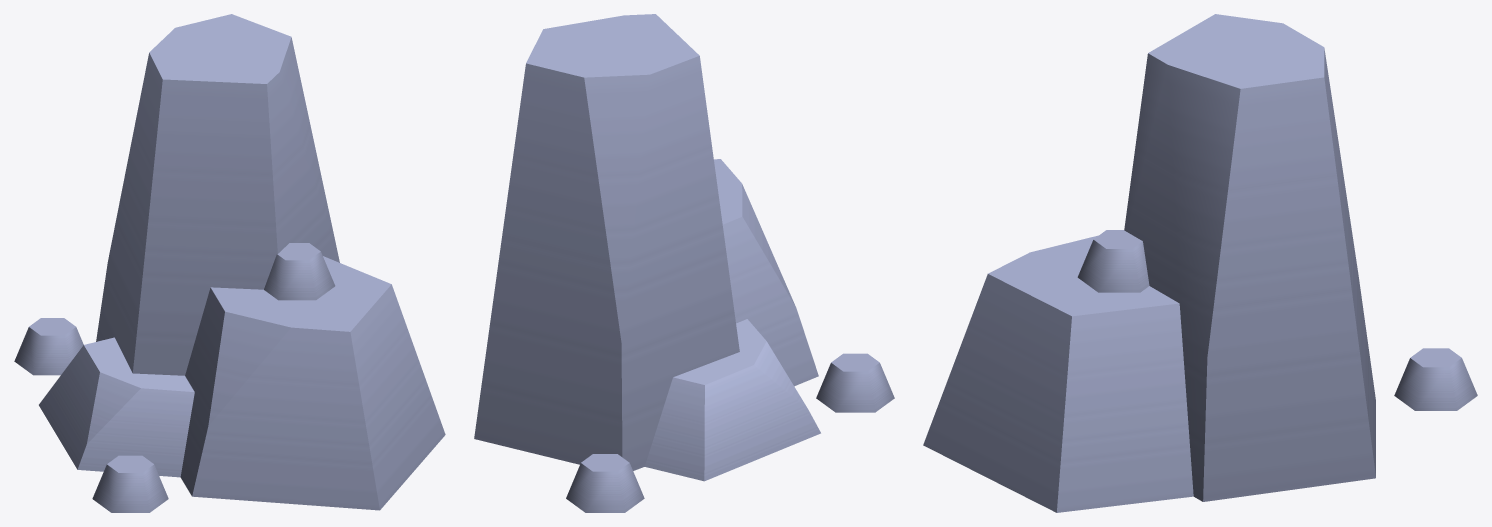
File: rock-small.fbx
The picture shows the model from 3 angles, left to right: view 1: azimuth 30°, elevation 25°; view 2: azimuth 150°, elevation 25°; view 3: azimuth 270°, elevation 25°; orthographic projection. The views are drawn at different scales.
Parts seen in each view (by area): view 1: rock-small; view 2: rock-small; view 3: rock-small.
Part boxes in pixels (x1,y1,x2,y2): rock-small: (14, 14, 445, 512); rock-small: (474, 14, 894, 512); rock-small: (923, 14, 1477, 512).
Size of the model in its own units: 99.83 by 102 by 133.
Materials: 1 (1 with a texture image).
